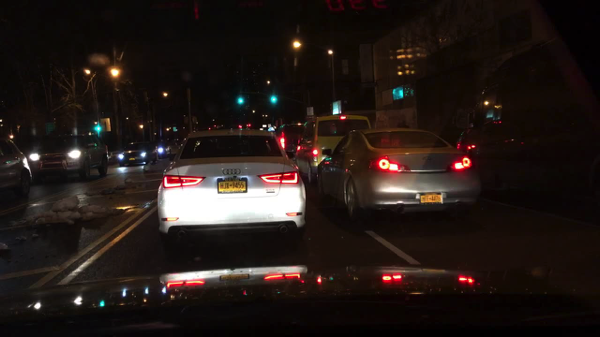car: (158, 129, 307, 254), (316, 127, 482, 222), (293, 101, 370, 187), (30, 132, 107, 182), (1, 139, 31, 199), (118, 140, 157, 166), (276, 122, 307, 154), (156, 139, 170, 158), (168, 140, 181, 156), (176, 138, 185, 146)
traffic light: (269, 94, 275, 105), (95, 123, 100, 132), (238, 94, 242, 104)
traffic sign: (46, 122, 55, 132)
truck: (457, 39, 599, 193)
